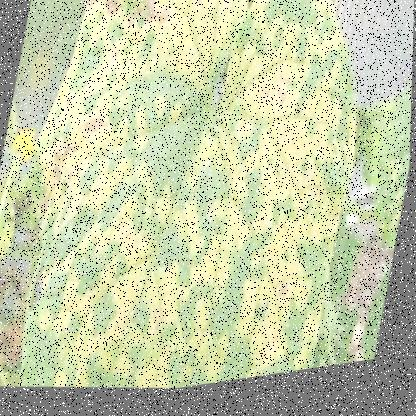DownyMildew: (6, 0, 342, 413)
